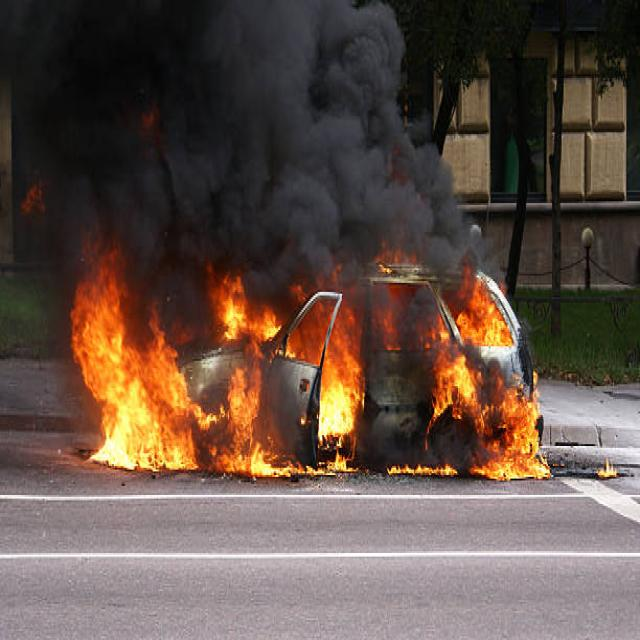fire: (85, 334, 199, 470), (217, 379, 276, 478), (488, 393, 548, 484), (319, 334, 360, 430), (461, 281, 507, 344)
